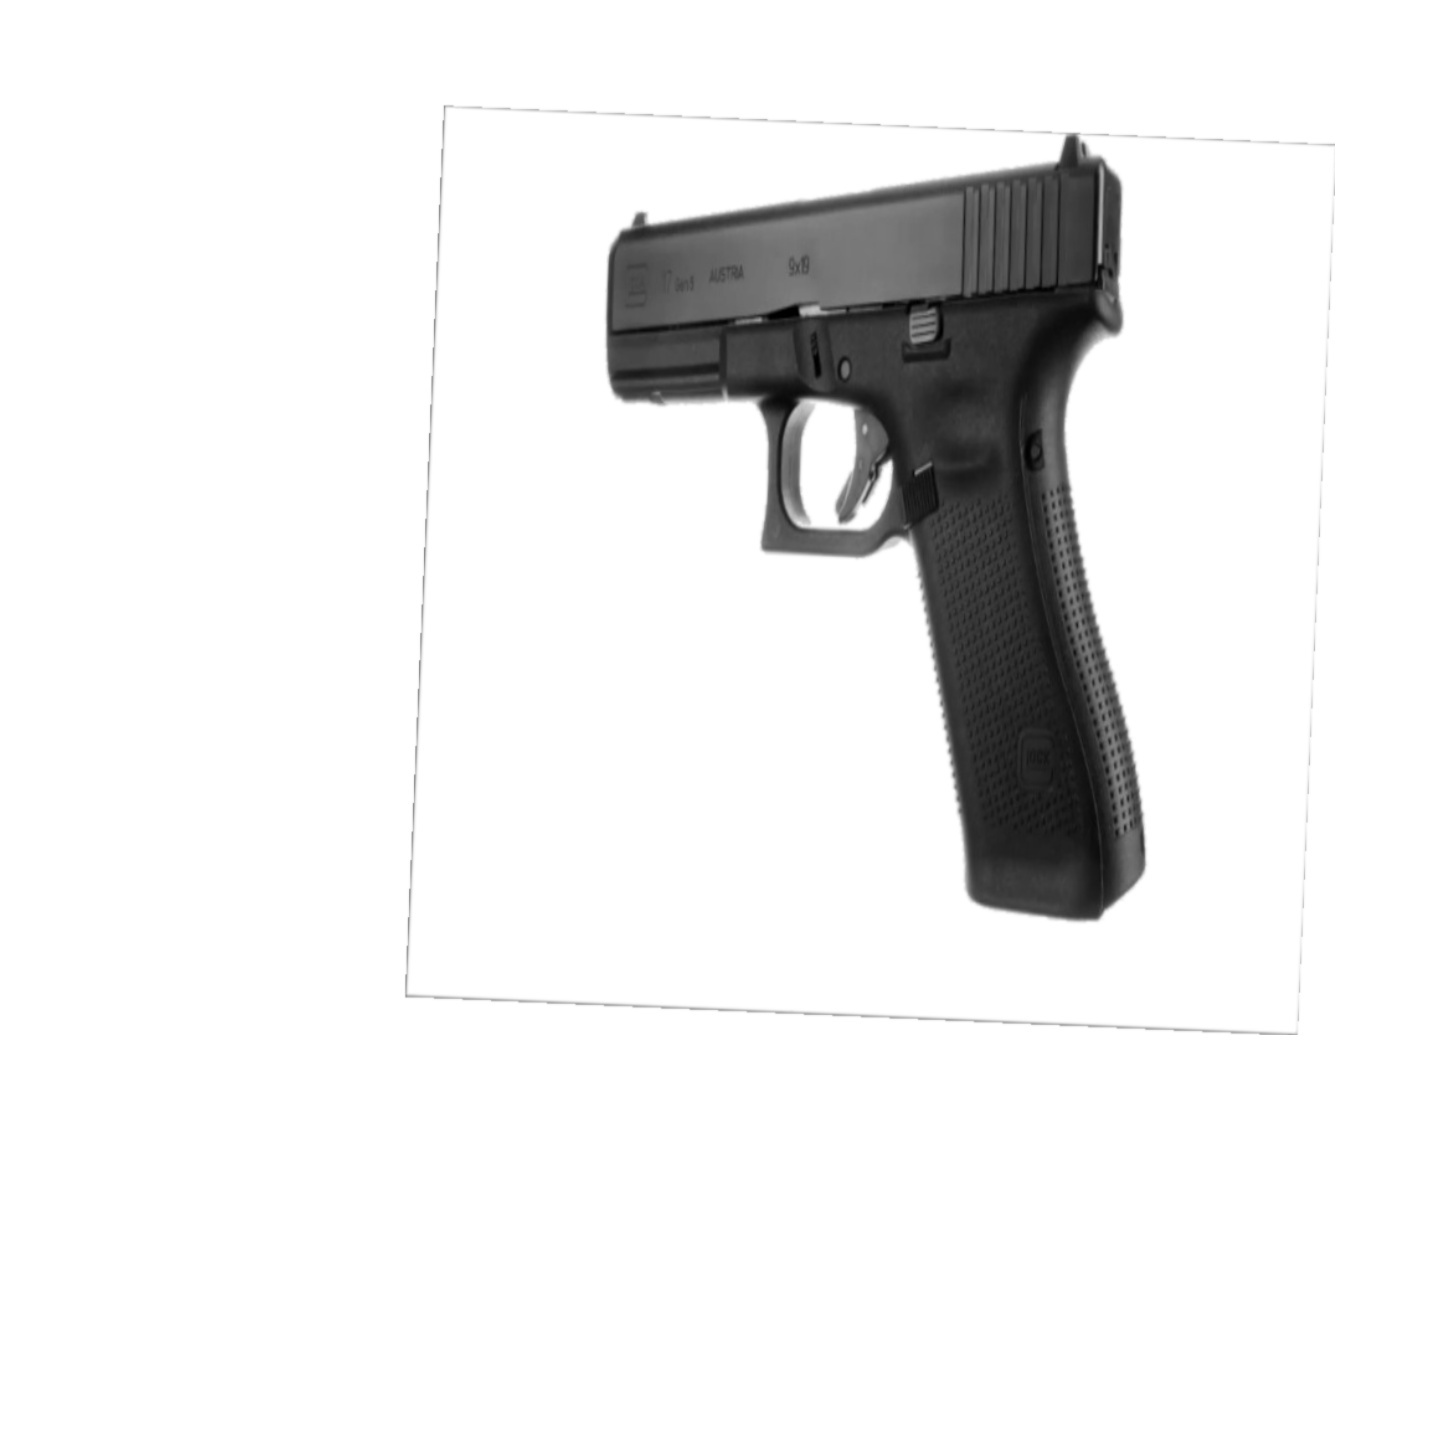gun: (604, 134, 1154, 934)
